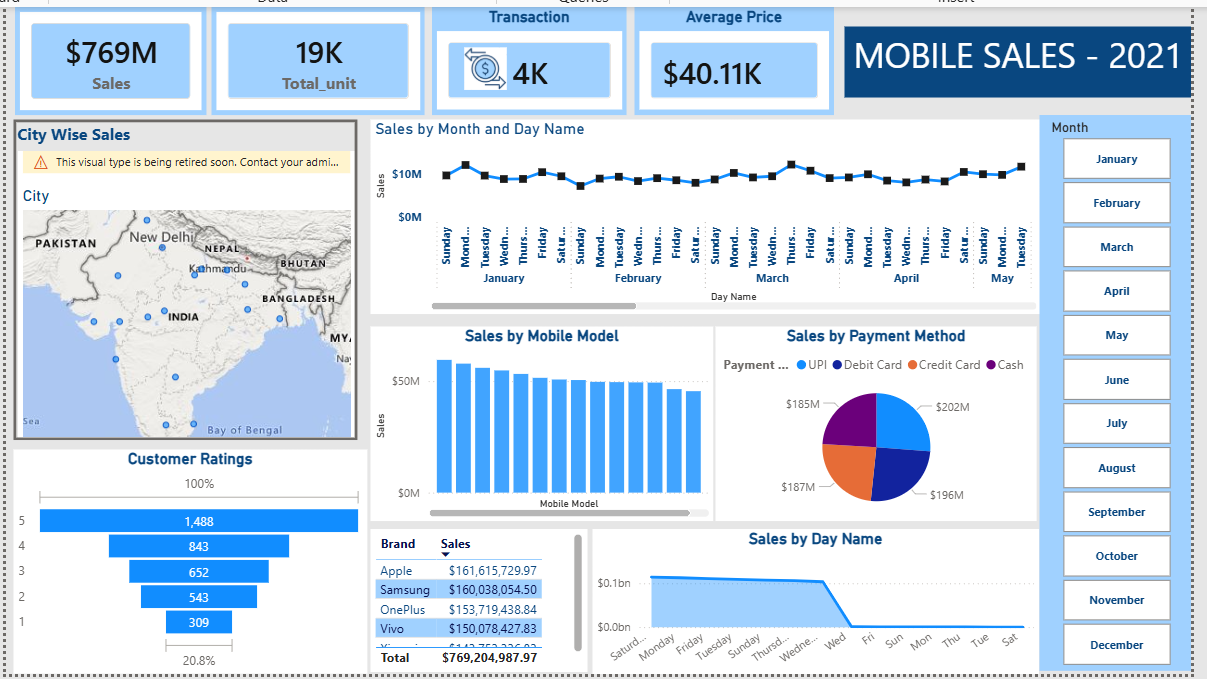

This screenshot's page, from the dashboard's own definition file:
{"tool":"powerbi","page":{"name":"Page 1","canvas":[1280,720],"ordinal":0},"visuals":[{"type":"cardVisual","fields":{"Data":["Sheet1.Sales"]},"box":[10,0,206.7,116.7],"z":0},{"type":"cardVisual","fields":{"Data":["Sheet1.Total_unit"]},"box":[221.7,0,230,116.7],"z":1000},{"type":"cardVisual","title":"Transaction","fields":{"Data":["Count(Sheet1.Transaction ID)"]},"box":[460,0,210,116.7],"z":2000},{"type":"cardVisual","title":"Average Price","fields":{"Data":["Avg(Sheet1.Price Per Unit)"]},"box":[678.3,0,215,116.7],"z":3000},{"type":"map","fields":{"Category":["Sheet1.City"]},"box":[12.5,155,363.8,308.8],"z":4000},{"type":"lineChart","fields":{"Category":["Sheet1.FullDate.Variation.Date Hierarchy.Month","Sheet1.Day Name"],"Y":["Sheet1.Sales"]},"box":[393.8,121.2,723.8,210],"z":5000},{"type":"clusteredColumnChart","fields":{"Category":["Sheet1.Mobile Model"],"Y":["Sheet1.Sales"]},"box":[393.3,345,370,210],"z":6000},{"type":"tableEx","fields":{"Values":["Sheet1.Brand","Sheet1.Sales"]},"box":[393.3,563.3,233.3,153.3],"z":7000},{"type":"funnel","title":"Customer Ratings","fields":{"Category":["Sheet1.Customer Ratings"],"Y":["CountNonNull(Sheet1.Transaction ID)"]},"box":[8.3,478.3,381.7,241.7],"z":8000},{"type":"pieChart","fields":{"Category":["Sheet1.Payment Method"],"Y":["Sheet1.Sales"]},"box":[766.7,345,346.7,210],"z":9000},{"type":"areaChart","fields":{"Y":["Sheet1.Sales"],"Category":["Sheet1.Day Name"]},"box":[633.3,563.3,481.7,156.7],"z":10000},{"type":"slicer","fields":{"Values":["Sheet1.FullDate.Variation.Date Hierarchy.Month"]},"box":[1115,116.7,165,600],"z":11000},{"type":"textbox","box":[905,21.7,375,76.7],"z":12000},{"type":"actionButton","box":[490,28,54,78],"z":13000},{"type":"actionButton","box":[8.8,121.2,371.2,346.2],"z":14000}]}

Visuals, with their boxes in screenshot pixels (x1, y1, x2, y2):
cardVisual - Sheet1.Sales: pyautogui.locateOnScreen(9, 3, 202, 112)
cardVisual - Sheet1.Total_unit: pyautogui.locateOnScreen(206, 3, 420, 112)
"Transaction" cardVisual: pyautogui.locateOnScreen(428, 3, 623, 112)
"Average Price" cardVisual: pyautogui.locateOnScreen(631, 3, 831, 112)
map - Sheet1.City: pyautogui.locateOnScreen(12, 147, 350, 434)
lineChart - Sheet1.FullDate.Variation.Date Hierarchy.Month x Sheet1.Day Name: pyautogui.locateOnScreen(366, 116, 1039, 311)
clusteredColumnChart - Sheet1.Mobile Model x Sheet1.Sales: pyautogui.locateOnScreen(366, 324, 710, 519)
tableEx - Sheet1.Brand x Sheet1.Sales: pyautogui.locateOnScreen(366, 527, 583, 670)
"Customer Ratings" funnel: pyautogui.locateOnScreen(8, 448, 363, 673)
pieChart - Sheet1.Payment Method x Sheet1.Sales: pyautogui.locateOnScreen(713, 324, 1035, 519)
areaChart - Sheet1.Sales x Sheet1.Day Name: pyautogui.locateOnScreen(589, 527, 1037, 673)
slicer - Sheet1.FullDate.Variation.Date Hierarchy.Month: pyautogui.locateOnScreen(1037, 112, 1190, 670)
textbox: pyautogui.locateOnScreen(842, 23, 1190, 95)
actionButton: pyautogui.locateOnScreen(456, 29, 506, 102)
actionButton: pyautogui.locateOnScreen(8, 116, 353, 438)
